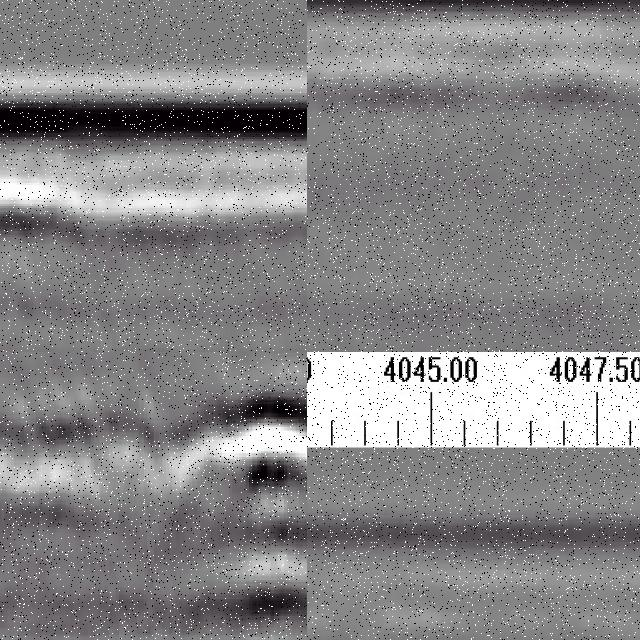loose: (211, 374, 308, 640), (1, 365, 92, 514)
